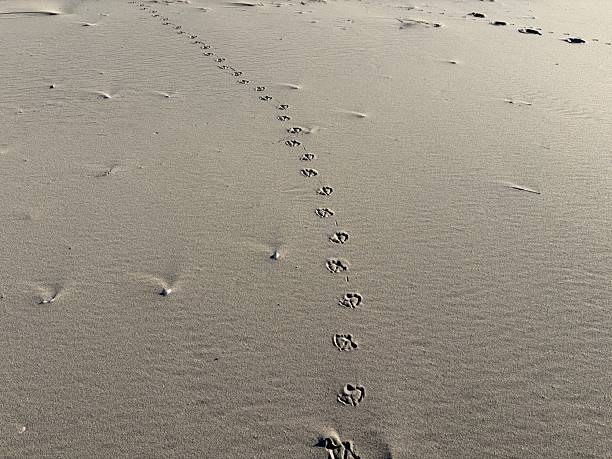animal_footprint: (317, 436, 360, 458), (337, 384, 365, 406), (338, 292, 362, 308), (333, 334, 357, 350), (326, 258, 348, 273), (329, 231, 348, 243), (315, 208, 334, 218), (300, 168, 317, 177), (518, 28, 541, 34), (317, 186, 332, 195), (300, 152, 315, 160), (285, 139, 300, 146), (287, 127, 302, 133), (277, 104, 289, 110), (277, 115, 290, 120), (237, 79, 249, 84), (259, 95, 271, 100), (254, 86, 265, 91), (218, 65, 228, 70), (233, 71, 242, 76), (202, 51, 213, 55), (216, 57, 225, 61), (188, 34, 196, 38)
